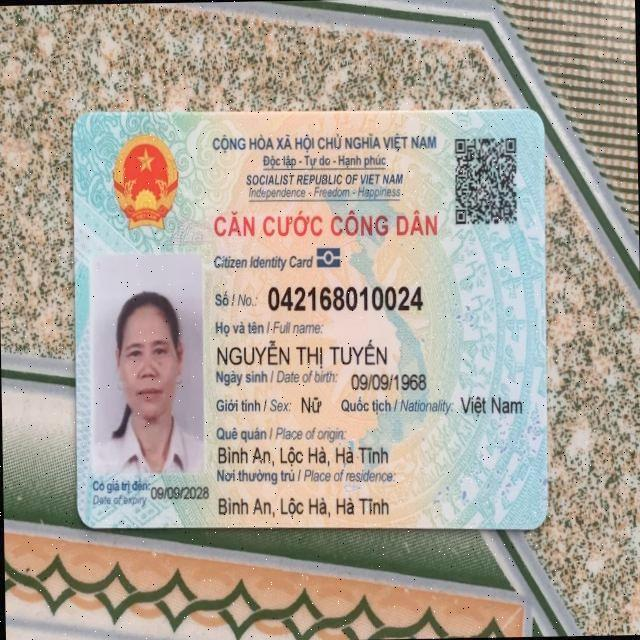current_place: (216, 489, 391, 521)
dob: (348, 370, 428, 396)
expire_date: (147, 481, 208, 501)
gender: (297, 392, 324, 414)
id: (266, 279, 424, 314)
name: (212, 336, 388, 372)
nationality: (457, 391, 525, 416)
origin_place: (216, 438, 388, 471)
